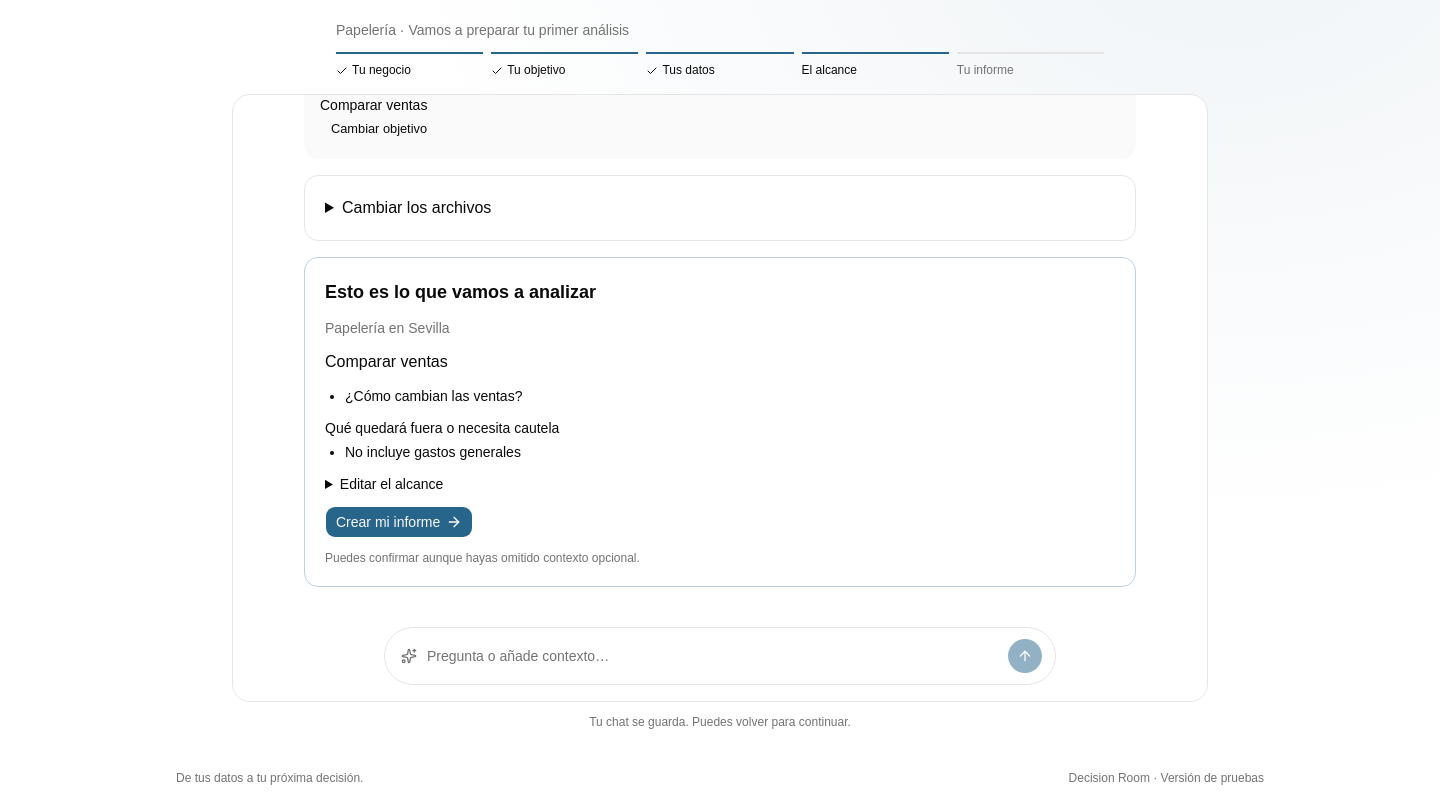
it: retries lost confirmation with the same request key
This screenshot has width=1440, height=810.
(page scrolled)
Click the button "Crear mi informe" at coordinates (399, 522), box [325, 506, 473, 538]
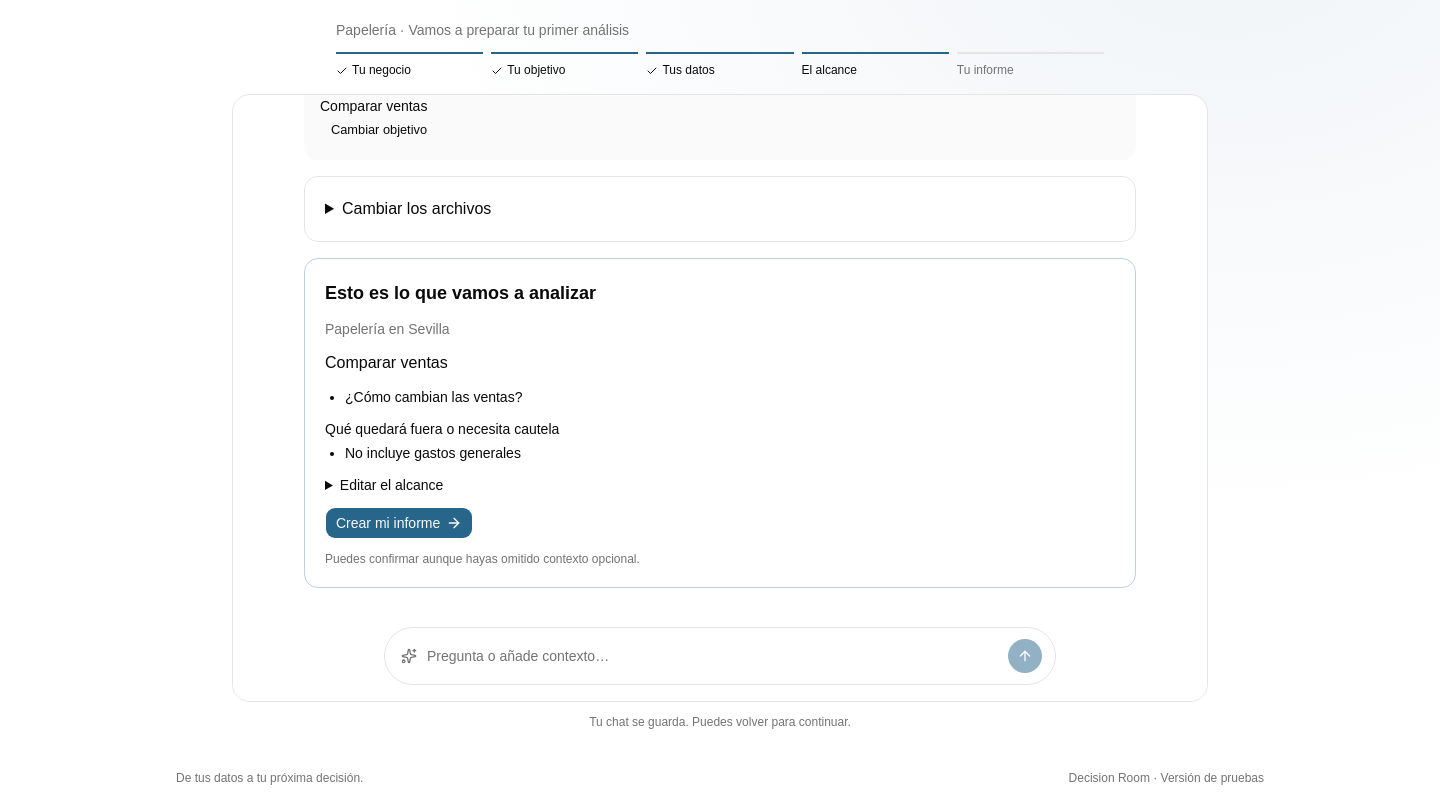
Click the button "Crear mi informe" at coordinates (399, 523), box [325, 507, 473, 539]
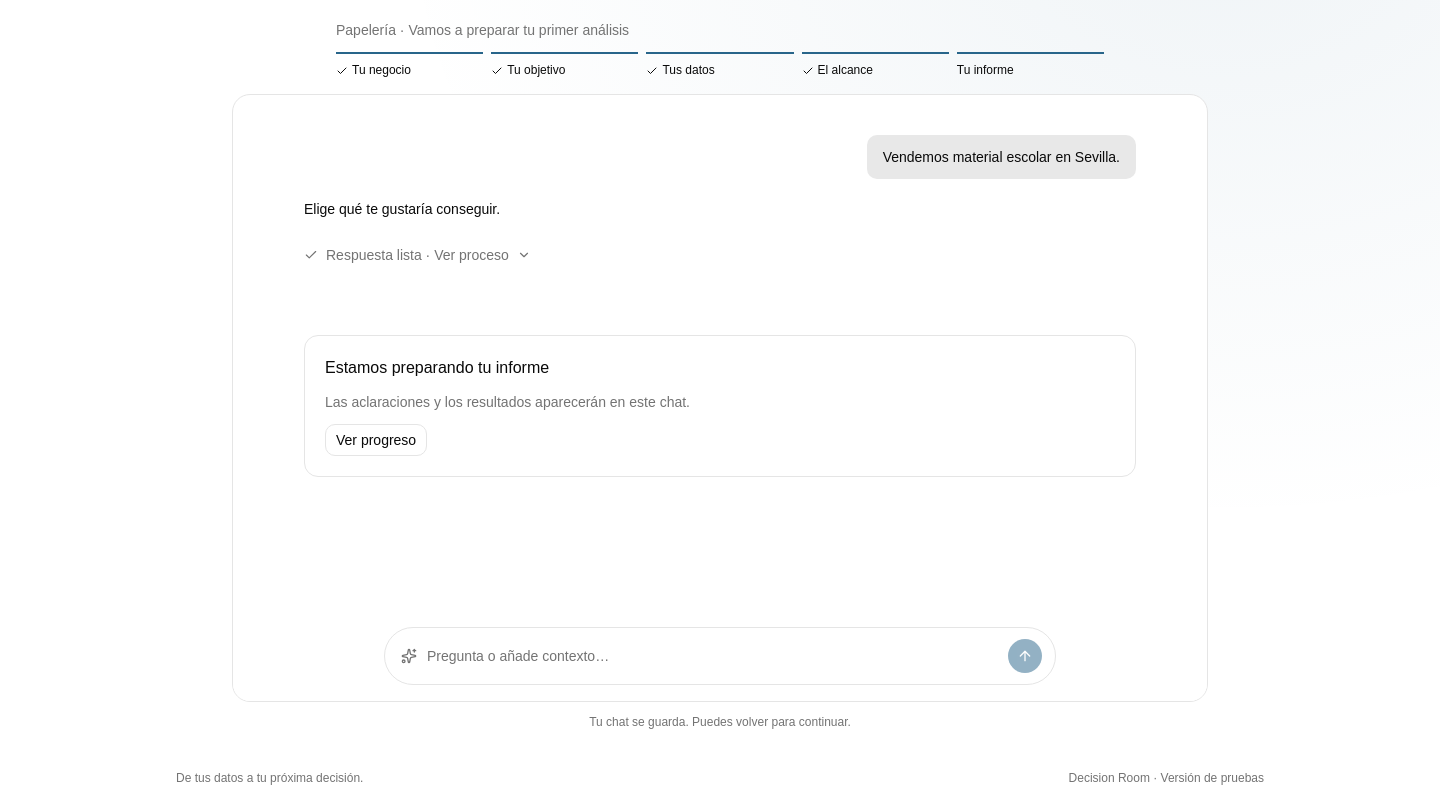
Check: the text "Estamos preparando tu informe" is shown, box [325, 359, 549, 376]
